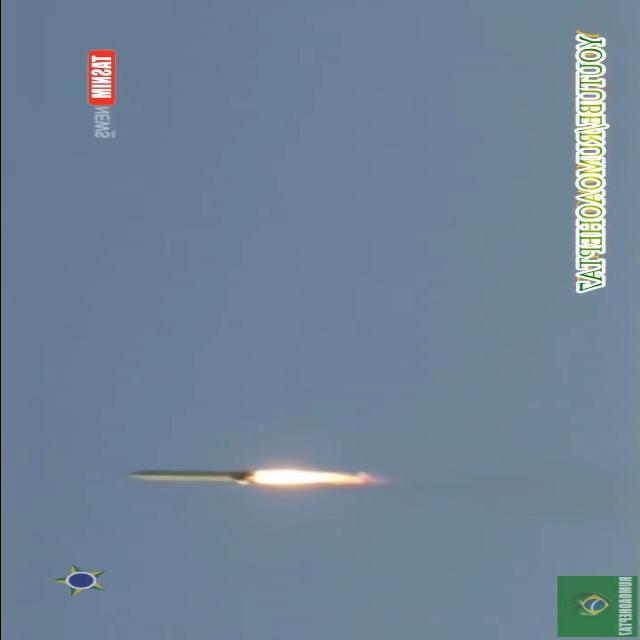missile: (116, 466, 272, 489)
